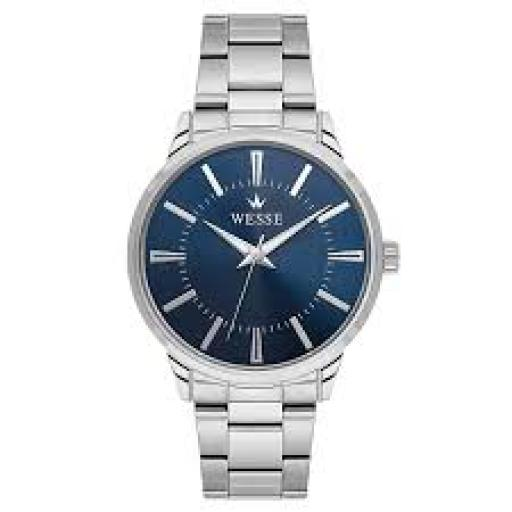KolSaati: (111, 2, 428, 512)
